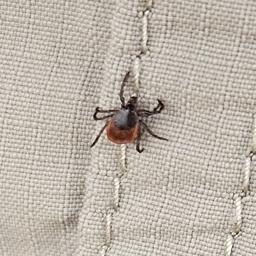Ixodes scapularis: (88, 72, 170, 152)
